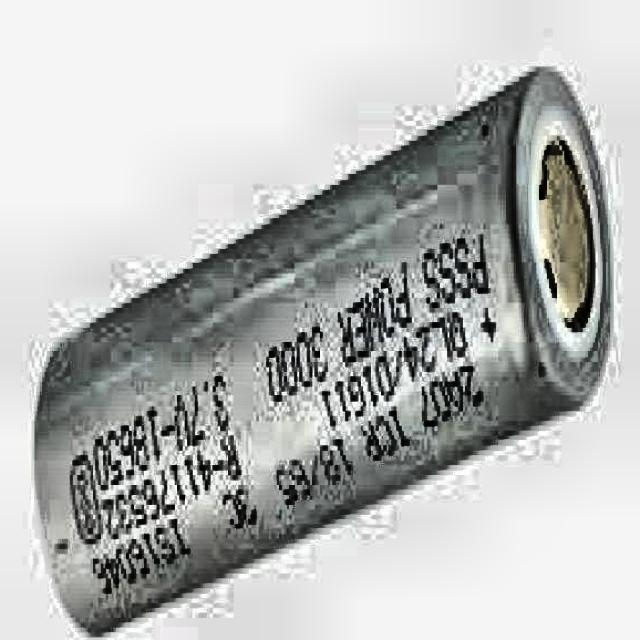Non-Valuable Waste - Batteries: (37, 72, 613, 638)
